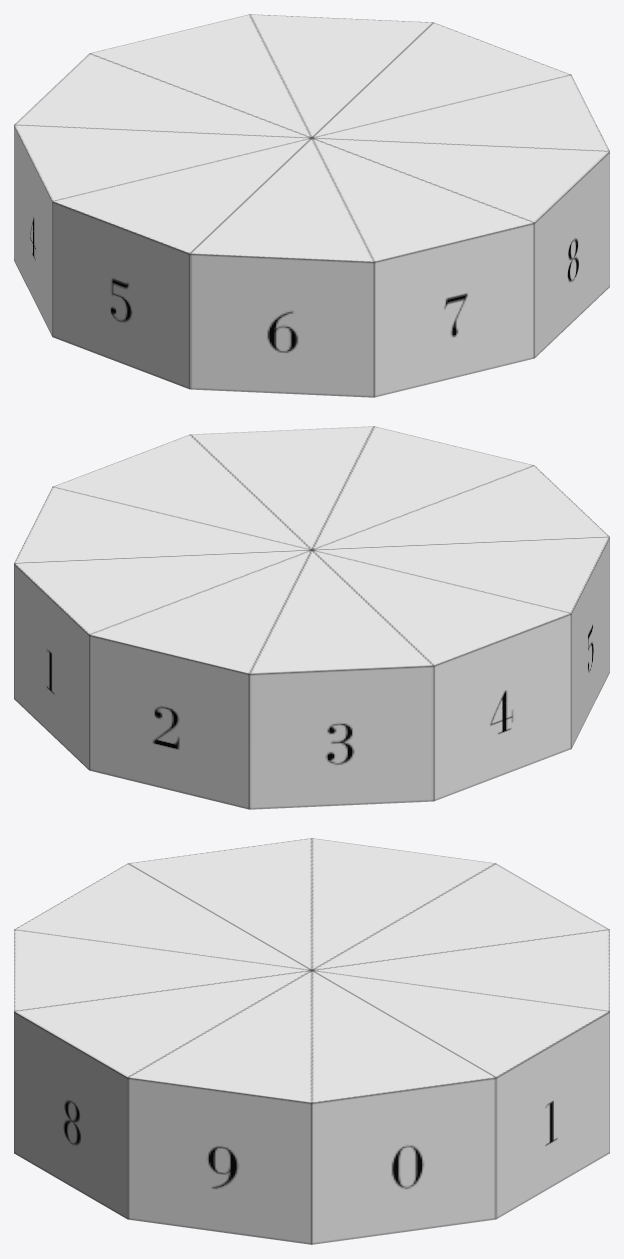
Rendered from CandadoDialSOlo.fbx.
3 views of the same model, one above another, from view 1: azimuth 30°, elevation 25°; view 2: azimuth 150°, elevation 25°; view 3: azimuth 270°, elevation 25° (orthographic). The views are drawn at different scales.
Parts seen in each view (by area): view 1: pCylinder1; view 2: pCylinder1; view 3: pCylinder1.
Part boxes in pixels (x1,y1,x2,y2): pCylinder1: (14,14,609,397); pCylinder1: (14,426,609,809); pCylinder1: (14,838,609,1244).
Size of the model in its own units: 2 by 0.5 by 1.9.
